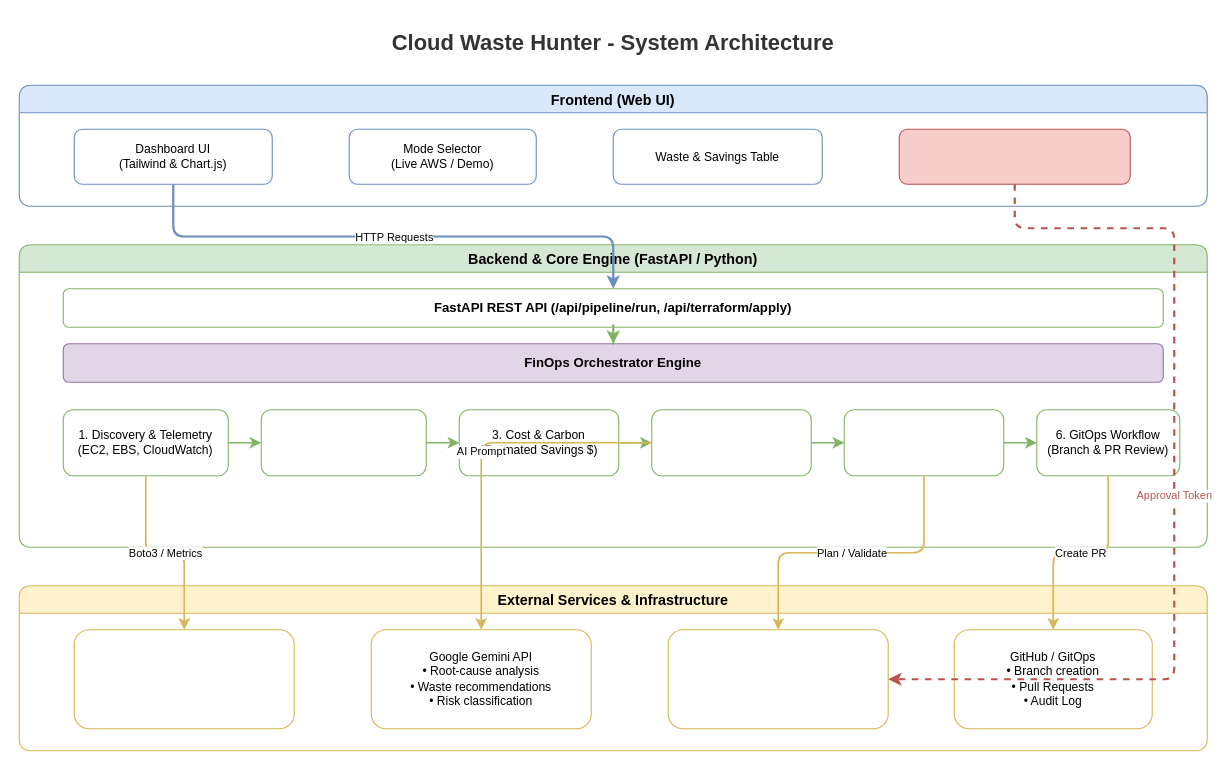
The diagram is 1231 pixels wide and 770 high, and some of its shapes have lost their labels. The shapes that lost their labels are listed below. From the top down, each one's centre as x and y in pixels, then its label:
the point at 1014,156: Human Approval Gate [Approve & Apply]
the point at 343,442: 2. Waste Detection (Idle instances, volumes)
the point at 731,442: 4. AI Advisor (Gemini Reasoning)
the point at 923,442: 5. Terraform Engine (HCL Diff & .tfplan)
the point at 183,679: AWS Cloud • EC2 / EBS • CloudWatch Metrics • Cost Explorer
the point at 777,679: Terraform CLI • terraform validate • terraform plan • terraform apply (safe)
